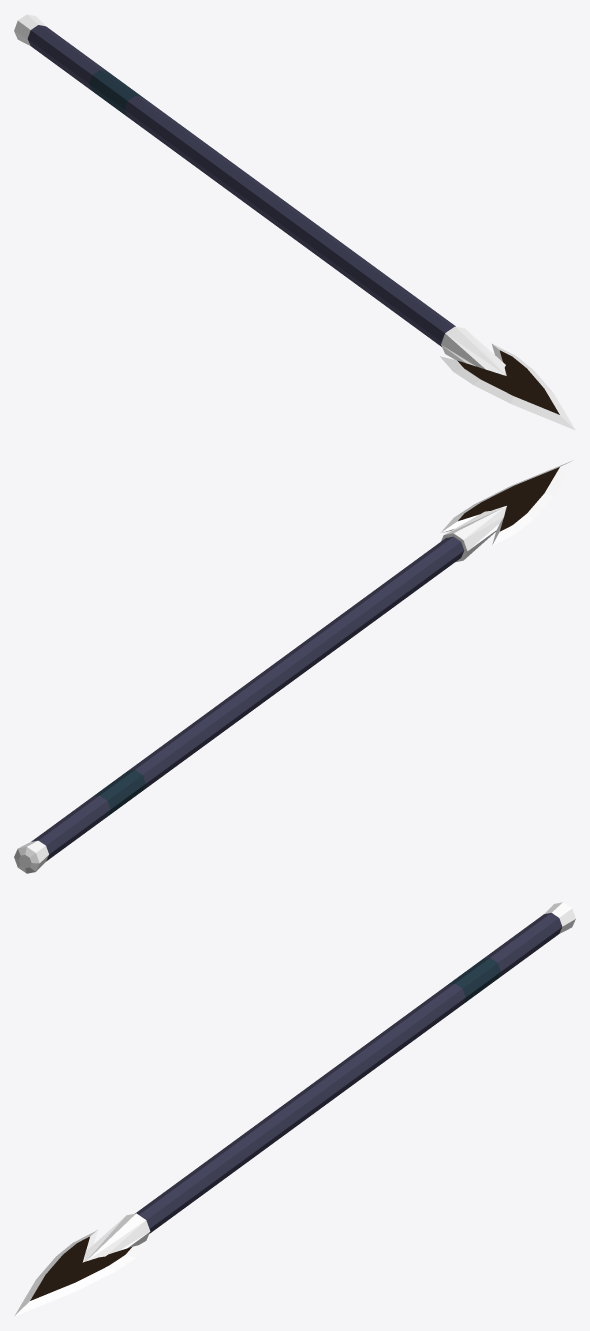
Rendered from SFFA_Arrow_Iron_002.fbx.
3 renders of one model, top to bottom at view 1: azimuth 30°, elevation 25°; view 2: azimuth 150°, elevation 25°; view 3: azimuth 330°, elevation 25°, orthographic.
Parts seen in each view (by area): view 1: SFFA_Arrow_Iron_002; view 2: SFFA_Arrow_Iron_002; view 3: SFFA_Arrow_Iron_002.
Boxes of the visible parts, x1,y1,x2,y2 form: SFFA_Arrow_Iron_002: [14, 14, 575, 430]; SFFA_Arrow_Iron_002: [14, 459, 575, 873]; SFFA_Arrow_Iron_002: [14, 902, 575, 1316].
Bounding box in the file's own units: 4.76 × 2.1 × 71.57.
